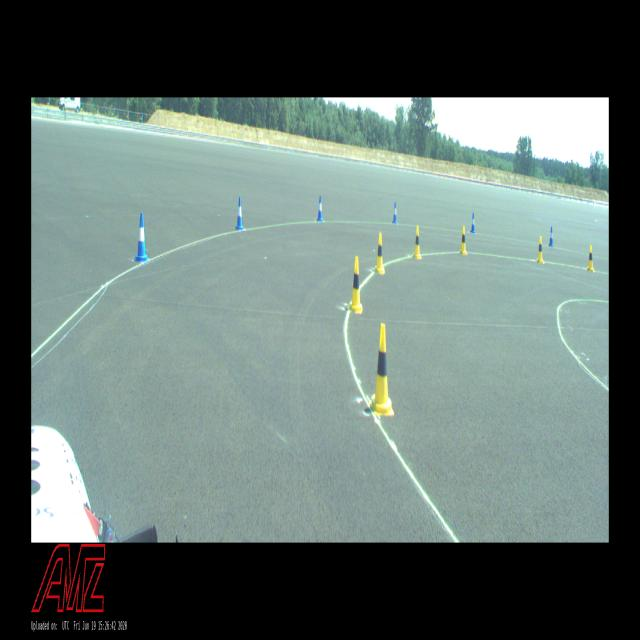blue_cone: (134, 214, 148, 262), (235, 198, 244, 230), (317, 196, 323, 221), (392, 202, 398, 224), (470, 213, 476, 233), (548, 227, 554, 246)
yellow_cone: (369, 324, 394, 415), (349, 256, 363, 313), (375, 233, 384, 273), (413, 225, 422, 259), (536, 236, 544, 264), (586, 245, 594, 271), (460, 226, 467, 255)
